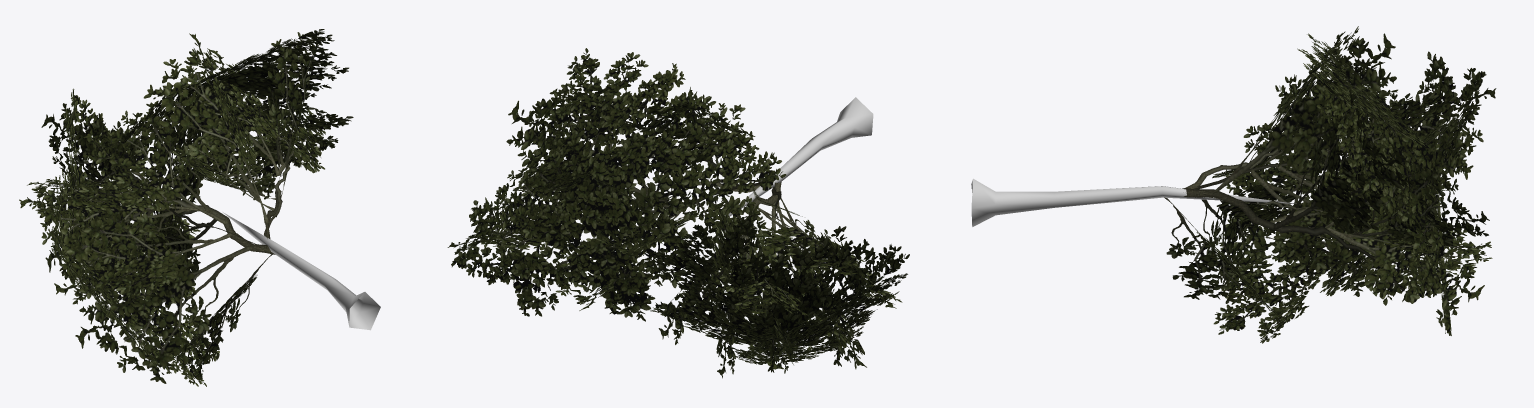
File: MEP_Tree_02_c.fbx
The picture shows the model from 3 angles, left to right: view 1: azimuth 30°, elevation 25°; view 2: azimuth 150°, elevation 25°; view 3: azimuth 270°, elevation 25°; orthographic projection. The views are drawn at different scales.
Parts seen in each view (by area): view 1: EP_Leafs_02_b, MEP_TreeBark_01_c; view 2: EP_Leafs_02_b, MEP_TreeBark_01_c; view 3: EP_Leafs_02_b, MEP_TreeBark_01_c.
Part boxes in pixels (x1,y1,x2,y2): EP_Leafs_02_b: (19, 29, 353, 386); MEP_TreeBark_01_c: (223, 212, 380, 330); EP_Leafs_02_b: (447, 48, 909, 378); MEP_TreeBark_01_c: (728, 97, 873, 216); EP_Leafs_02_b: (1164, 26, 1496, 343); MEP_TreeBark_01_c: (971, 178, 1296, 226).
Bounding box in the file's own units: 17.37 × 12.89 × 17.29.
